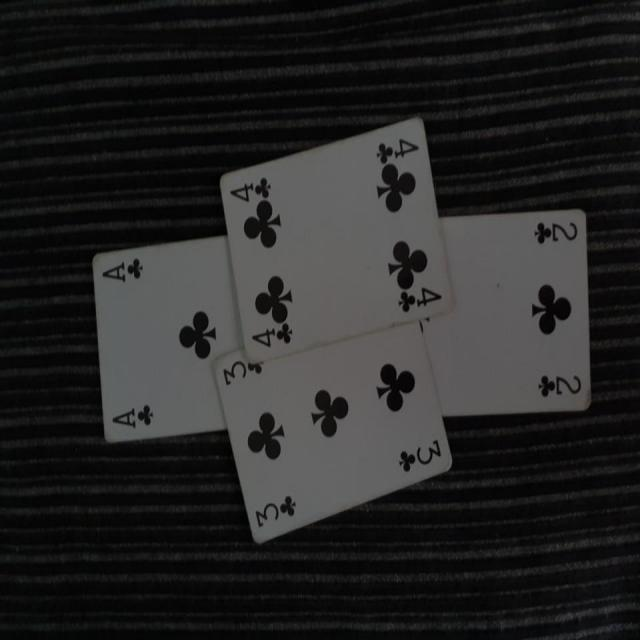2 Trefoils: (420, 204, 593, 418)
3 Trefoils: (214, 316, 453, 548)
4 Trefoils: (218, 115, 456, 362)
A Trefoils: (92, 235, 246, 444)
